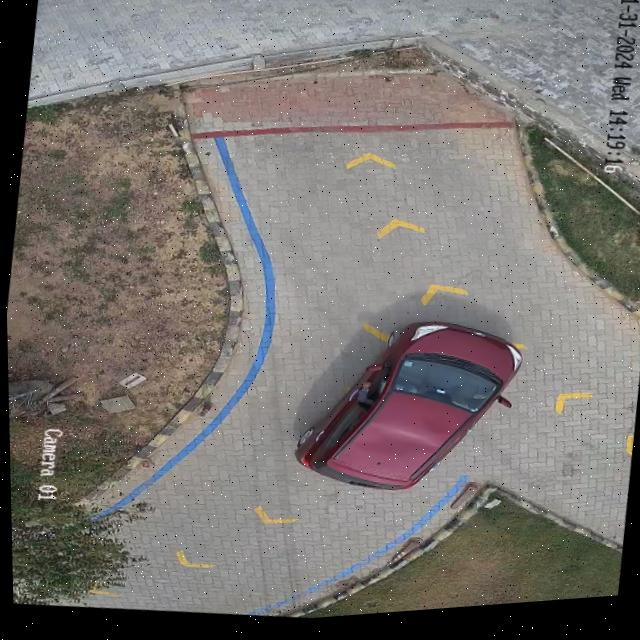car: (292, 328, 519, 496)
